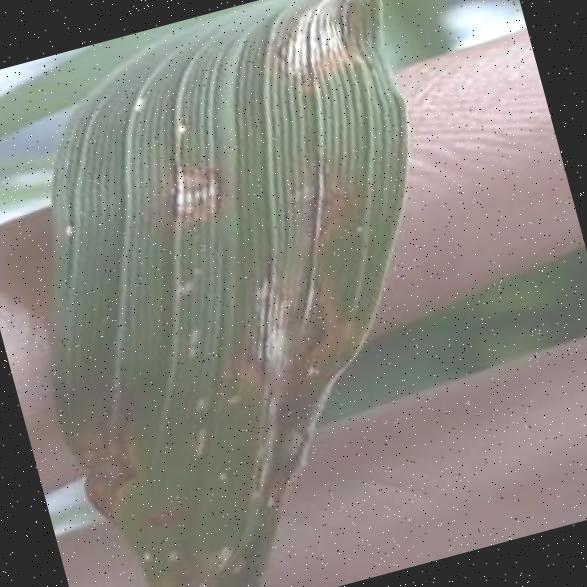Leaf_smut: (191, 234, 373, 395), (25, 393, 147, 526), (256, 0, 397, 114), (140, 138, 248, 242), (132, 480, 204, 540)
